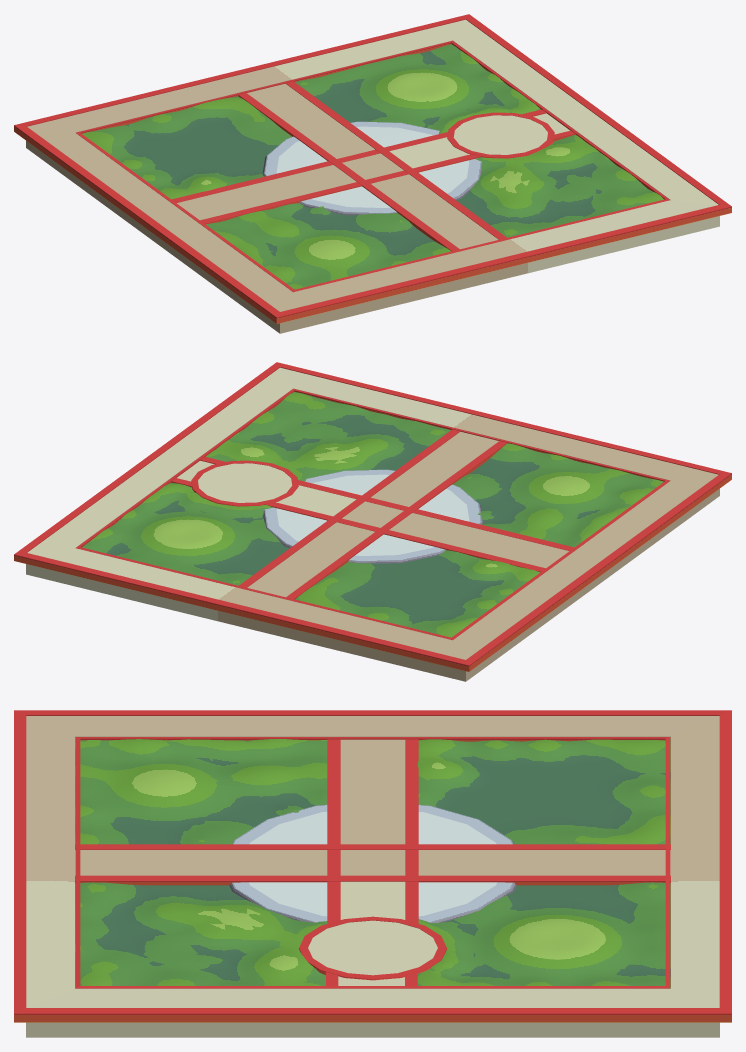
The model's file is suelo.fbx.
3 views of the same model, one above another, from view 1: azimuth 30°, elevation 25°; view 2: azimuth 150°, elevation 25°; view 3: azimuth 270°, elevation 25° (orthographic). The views are drawn at different scales.
Parts seen in each view (by area): view 1: suelo; view 2: suelo; view 3: suelo.
Boxes of the visible parts, left/top/right/bottom form: suelo: left=14, top=14, right=731, bottom=333; suelo: left=14, top=362, right=731, bottom=681; suelo: left=14, top=710, right=731, bottom=1037.
Size of the model in its own units: 10634 by 532 by 10634.
